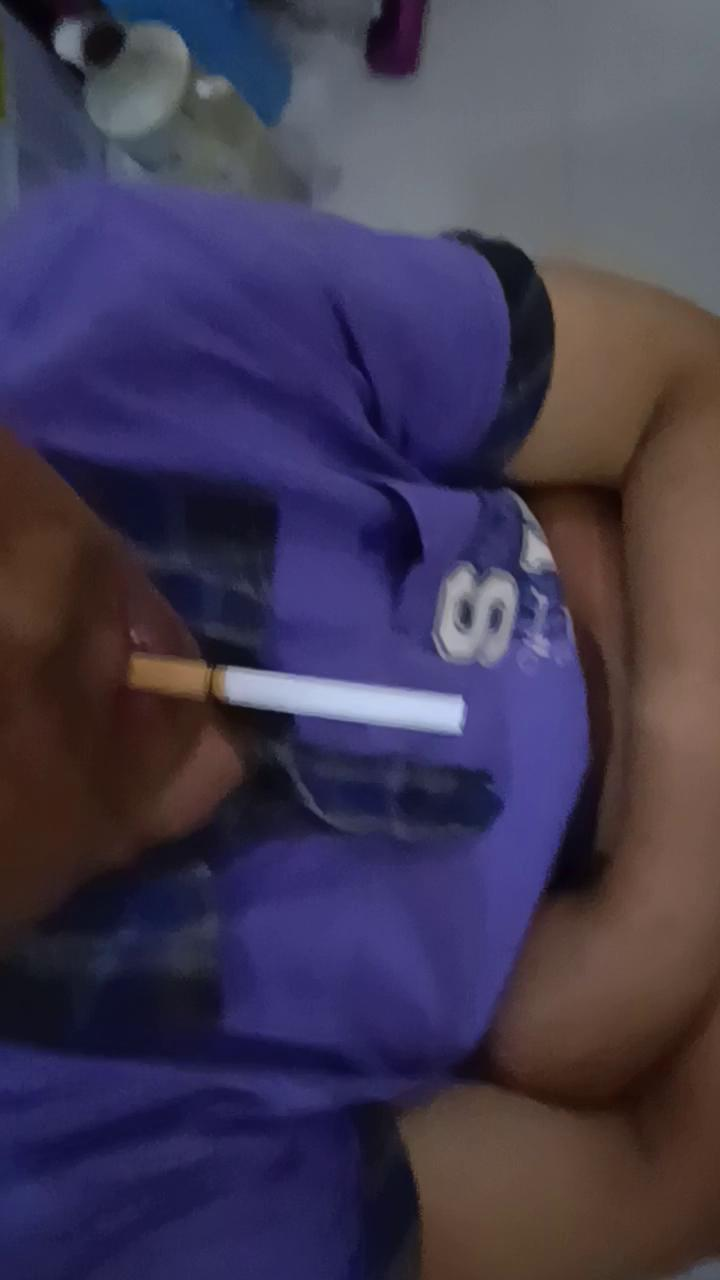smoke: (124, 654, 473, 738)
